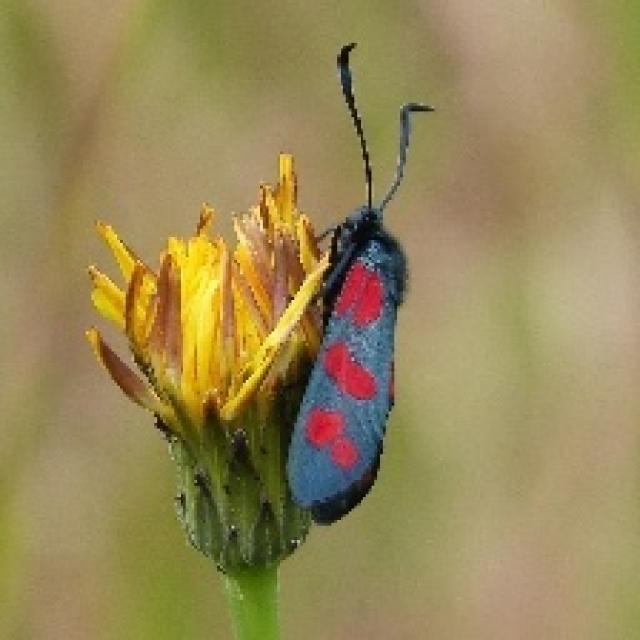butterfly: (283, 37, 434, 526)
